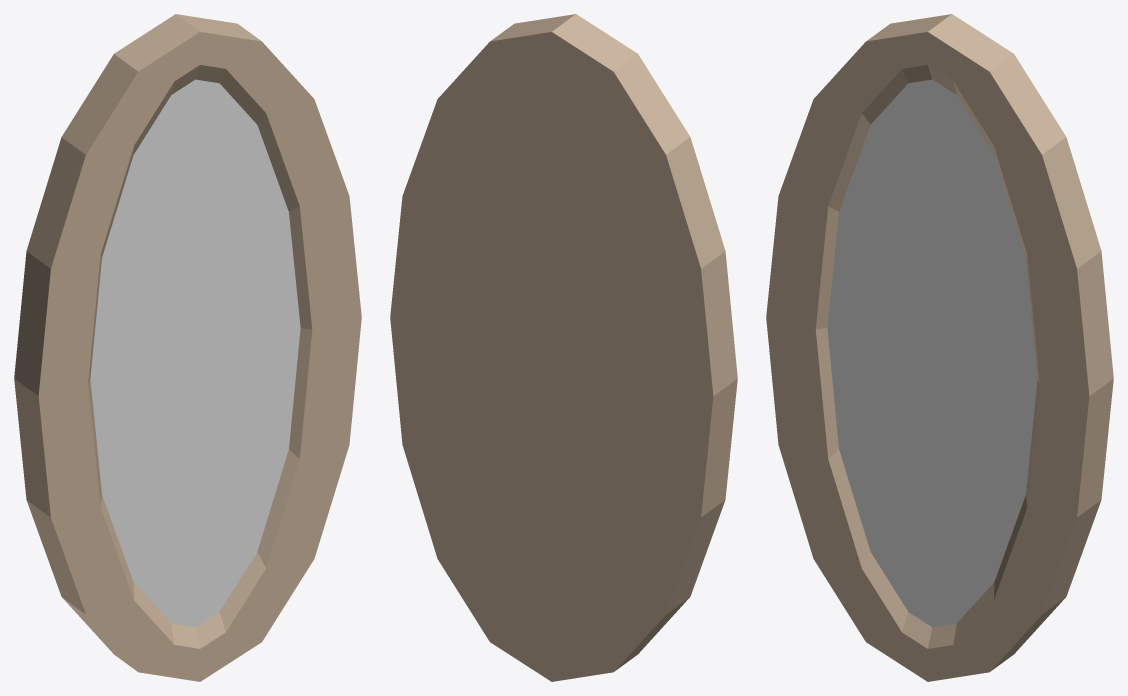
Rendered from Mirror.fbx.
3 views of the same model, side by side, from view 1: azimuth 30°, elevation 25°; view 2: azimuth 150°, elevation 25°; view 3: azimuth 330°, elevation 25° (orthographic).
Parts seen in each view (by area): view 1: Cube.001; view 2: Cube.001; view 3: Cube.001.
Boxes of the visible parts, <box> form: Cube.001: <box>14,14,361,681</box>; Cube.001: <box>390,14,737,681</box>; Cube.001: <box>766,14,1113,681</box>.
Size of the model in its own units: 200 by 384 by 26.18.
